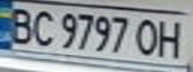7: (109, 14, 133, 54), (75, 10, 93, 51)
9: (90, 11, 115, 52), (54, 9, 78, 50)
B: (3, 3, 39, 45)
C: (27, 7, 57, 47)
H: (154, 17, 190, 59)
O: (130, 16, 163, 56)
